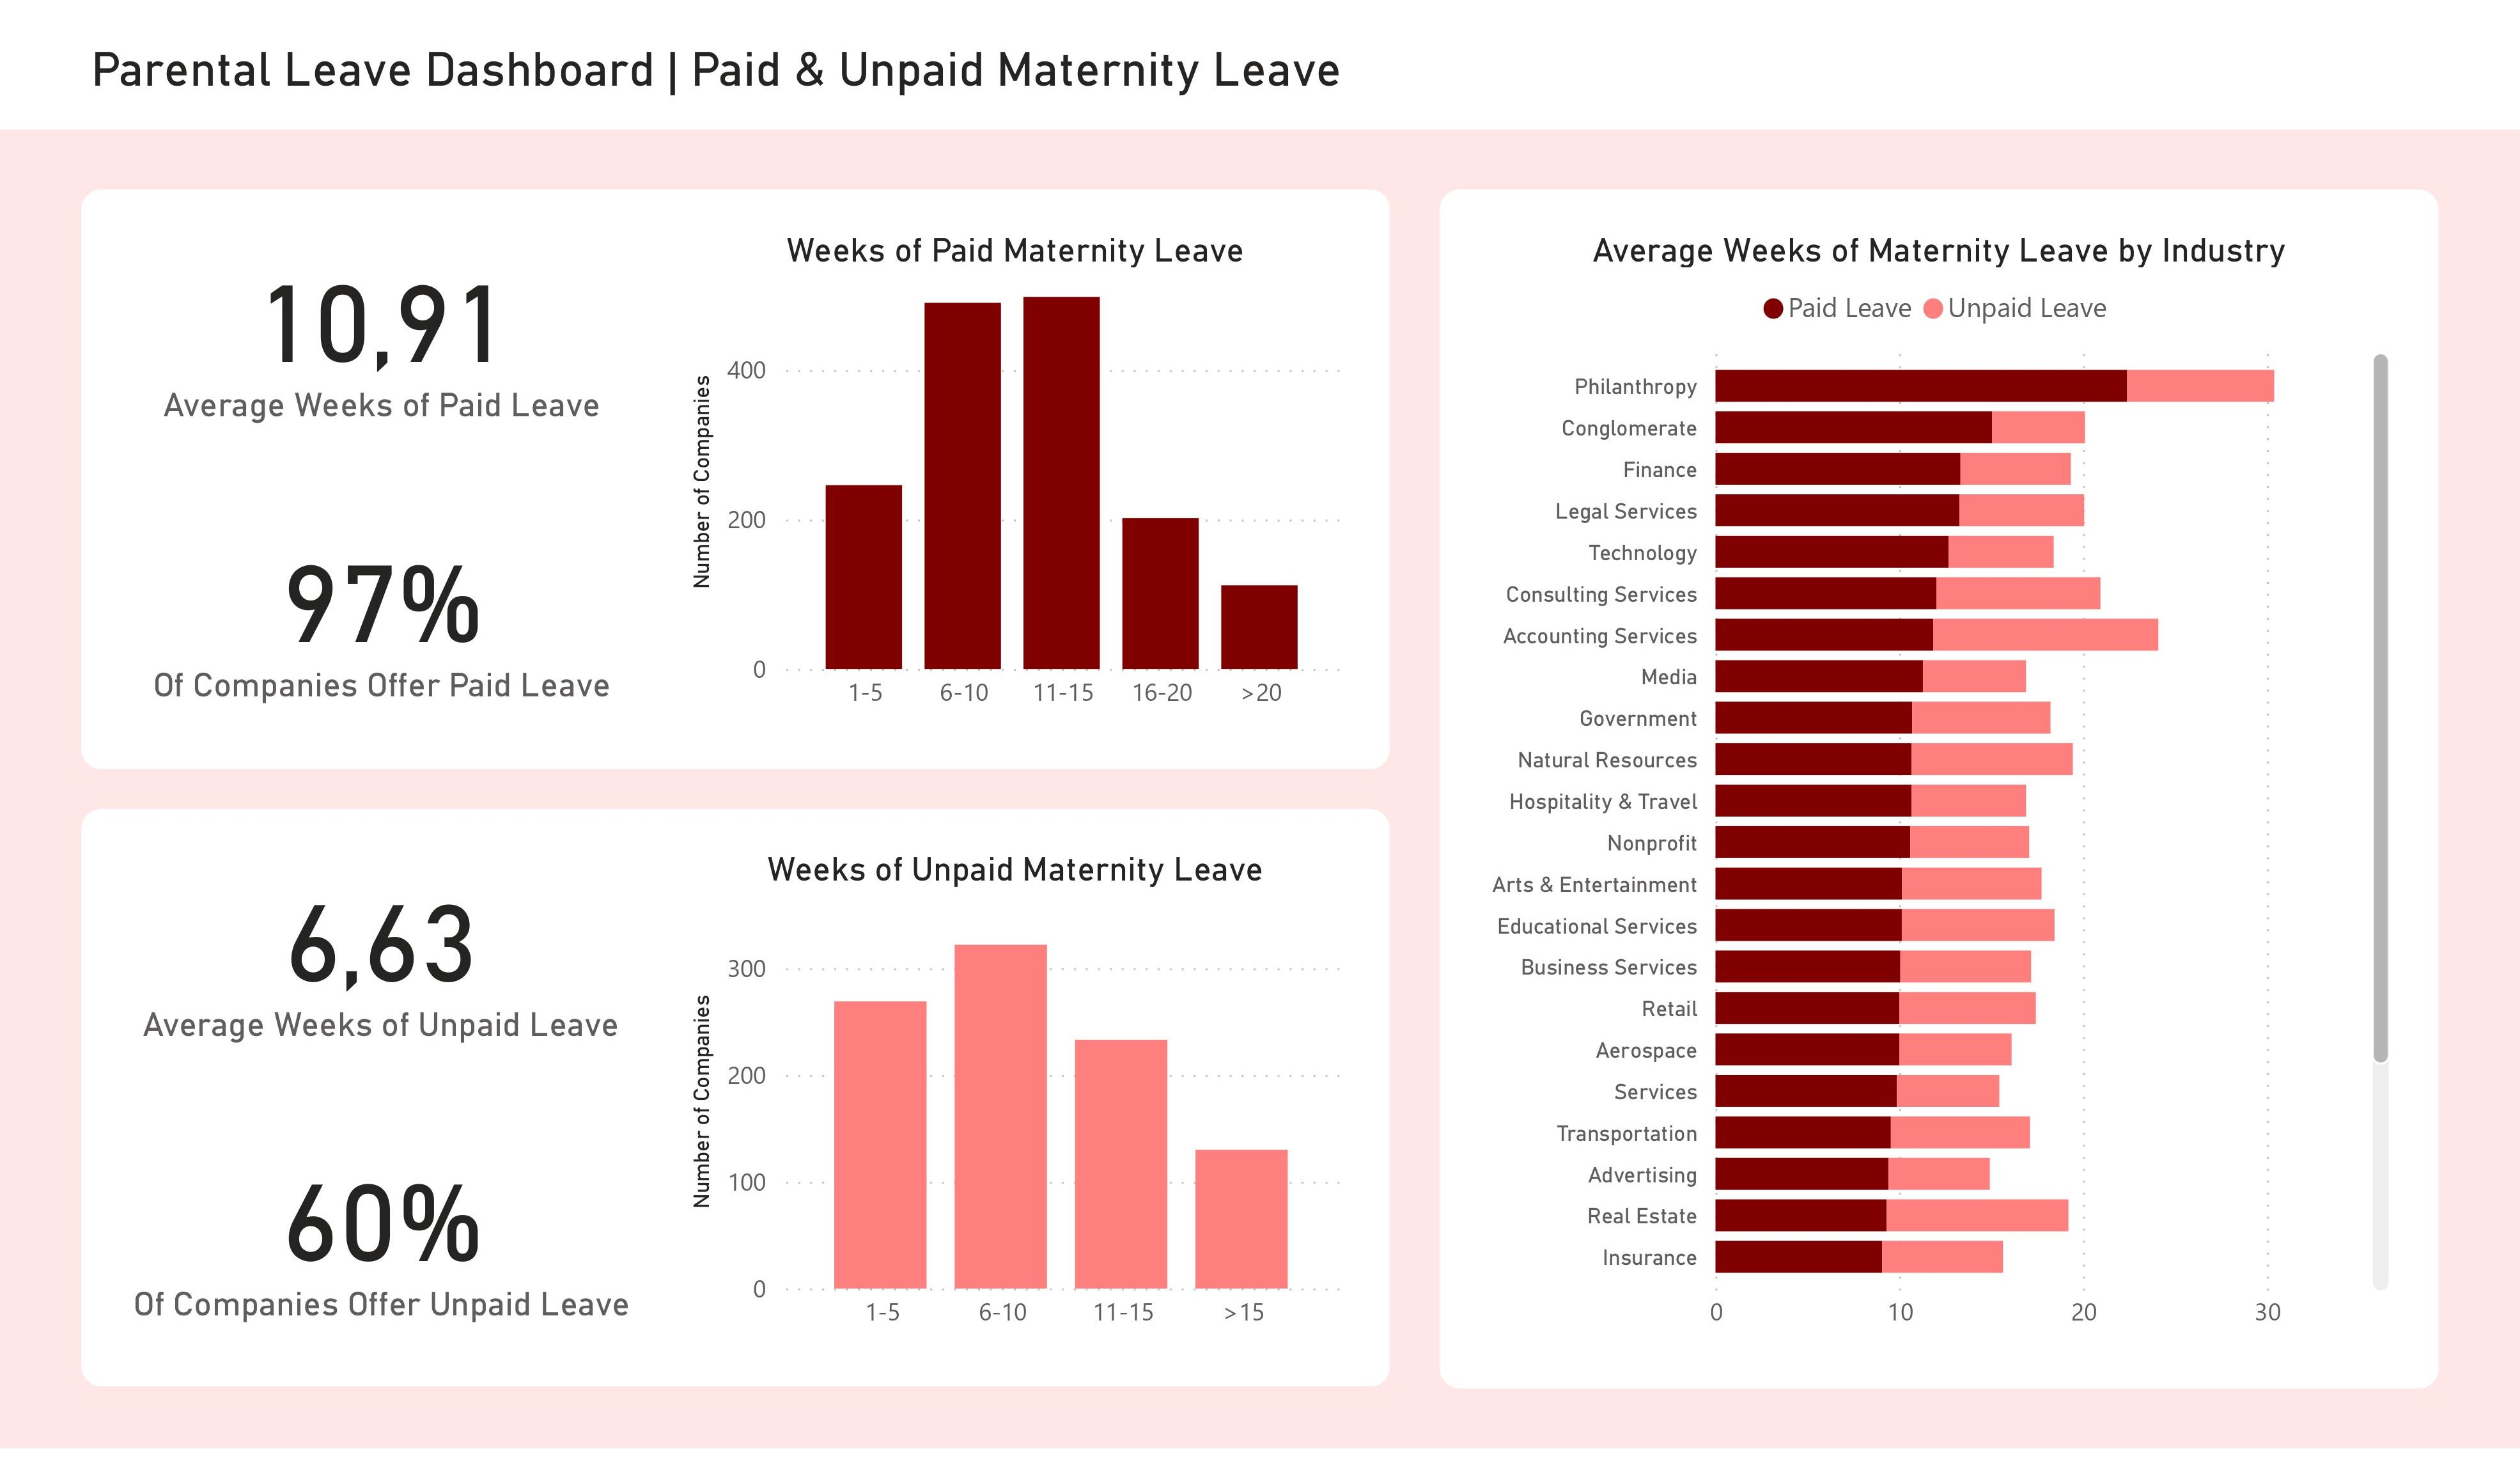

What the dashboard file says about the page in this screenshot:
{"tool":"powerbi","page":{"name":"Mother's","canvas":[1280,720],"ordinal":0},"visuals":[{"type":"shape","box":[0,0,1280,60.1],"z":0},{"type":"shape","box":[50,400,655,289.3],"z":1000},{"type":"shape","box":[50,90,655,290],"z":2000},{"type":"shape","box":[730,90,500,600],"z":3000},{"type":"barChart","title":"Average Weeks of Maternity Leave by Industry","fields":{"Category":["ParentalLeave.Industry"],"Y":["Avg(ParentalLeave.Paid Maternity Leave)","Avg(ParentalLeave.Unpaid Maternity Leave)"]},"box":[750,110,460,560],"z":4000},{"type":"card","fields":{"Values":["Avg(ParentalLeave.Paid Maternity Leave)"]},"box":[70.1,90,260.4,140.2],"z":5000},{"type":"card","fields":{"Values":["Avg(ParentalLeave.Unpaid Maternity Leave)"]},"box":[70,400,260.4,140],"z":6000},{"type":"card","title":"% Companies Offering Paid Leave","fields":{"Values":["ParentalLeave.%CompaniesPaidMaternityLeave"]},"box":[70.1,230,260.4,140.2],"z":7000},{"type":"card","title":"% Companies Offering Unpaid Leave","fields":{"Values":["ParentalLeave.%CompaniesUnpaidMaternityLeave"]},"box":[70.1,540,260.4,140.2],"z":8000},{"type":"columnChart","title":"Weeks of Unpaid Maternity Leave","fields":{"Y":["CountNonNull(ParentalLeave.Company)"],"Category":["ParentalLeave.UnpaidMaternityGroup"]},"box":[350,420,335,250],"z":9000},{"type":"clusteredColumnChart","title":"Weeks of Paid Maternity Leave","fields":{"Y":["CountNonNull(ParentalLeave.Company)"],"Category":["ParentalLeave.PaidMaternityGroup"]},"box":[350,110,335,250],"z":10000},{"type":"textbox","box":[50.1,11.1,655.5,49],"z":11000}]}

Visuals, with their boxes in screenshot pixels (x1, y1, x2, y2), scaled from the page's 1280x720 canvas onto the 2520x1458 screenshot:
shape: box=[0, 0, 2519, 121]
shape: box=[98, 810, 1388, 1396]
shape: box=[98, 182, 1388, 769]
shape: box=[1437, 182, 2422, 1397]
"Average Weeks of Maternity Leave by Industry" barChart: box=[1477, 223, 2382, 1357]
card - Avg(ParentalLeave.Paid Maternity Leave): box=[138, 182, 651, 466]
card - Avg(ParentalLeave.Unpaid Maternity Leave): box=[138, 810, 651, 1093]
"% Companies Offering Paid Leave" card: box=[138, 466, 651, 749]
"% Companies Offering Unpaid Leave" card: box=[138, 1093, 651, 1377]
"Weeks of Unpaid Maternity Leave" columnChart: box=[689, 850, 1349, 1357]
"Weeks of Paid Maternity Leave" clusteredColumnChart: box=[689, 223, 1349, 729]
textbox: box=[98, 22, 1389, 121]
